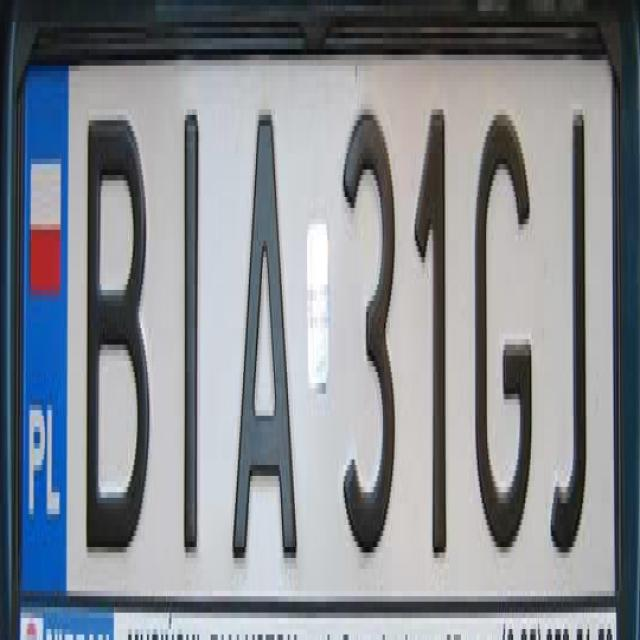EU: (13, 56, 624, 640)
Pologne: (19, 41, 66, 590)
